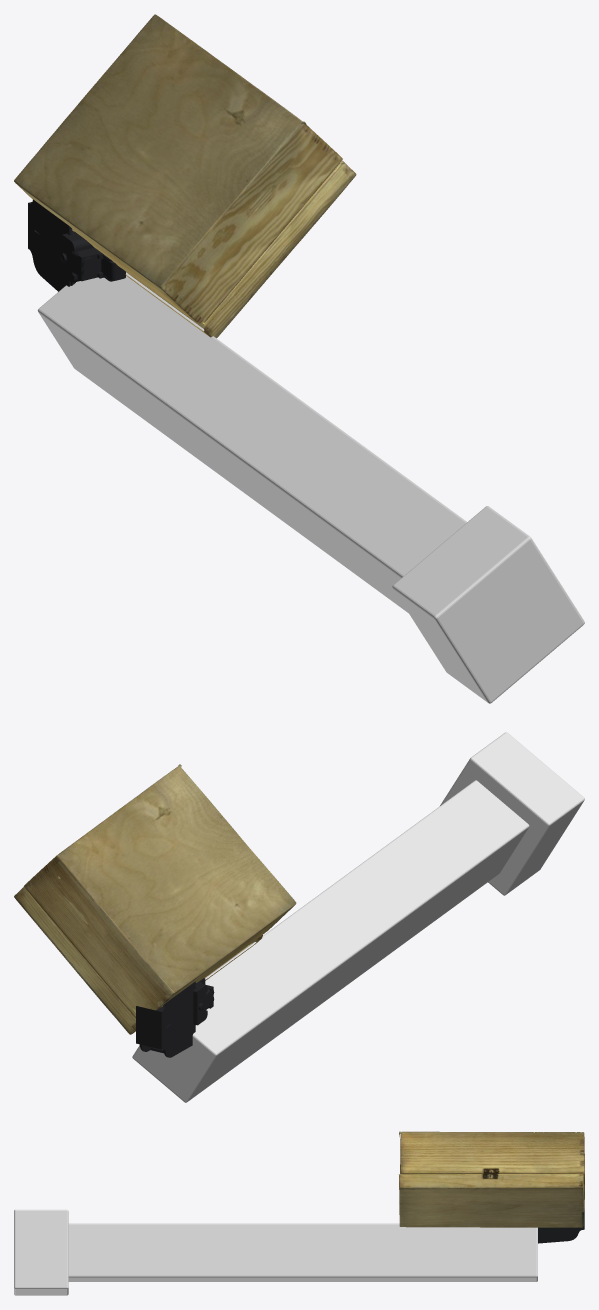
The picture shows the model from 3 angles, top to bottom: view 1: azimuth 30°, elevation 25°; view 2: azimuth 150°, elevation 25°; view 3: azimuth 270°, elevation 25°; orthographic projection. The views are drawn at different scales.
Parts seen in each view (by area): view 1: o_0_0, s_stem, s_cap, o_1_1, h_left_8_0, h_right_12_37, h_right_8_21; view 2: o_0_0, s_stem, s_cap, o_1_1, h_left_8_0, h_right_8_21; view 3: s_stem, o_1_1, o_0_0, s_cap, h_right_8_21, h_left_8_0.
Part boxes in pixels (box(x1,y1,x2,y2)): o_0_0: box(14, 14, 342, 323); s_stem: box(37, 272, 466, 612); s_cap: box(392, 506, 584, 703); o_1_1: box(125, 160, 356, 338); h_left_8_0: box(28, 199, 75, 291); h_right_12_37: box(60, 231, 103, 273); h_right_8_21: box(28, 202, 74, 288); o_0_0: box(23, 764, 296, 1019); s_stem: box(132, 780, 529, 1102); s_cap: box(440, 732, 584, 895); o_1_1: box(14, 887, 262, 1034); h_left_8_0: box(136, 981, 195, 1051); h_right_8_21: box(136, 983, 195, 1057); s_stem: box(68, 1223, 537, 1281); o_1_1: box(399, 1172, 584, 1227); o_0_0: box(399, 1131, 584, 1210); s_cap: box(14, 1209, 68, 1295); h_right_8_21: box(538, 1210, 584, 1242); h_left_8_0: box(538, 1209, 584, 1243).
Bounding box in the file's own units: 0.3057 × 0.4073 × 1.05.
5 materials, 2 textured.
